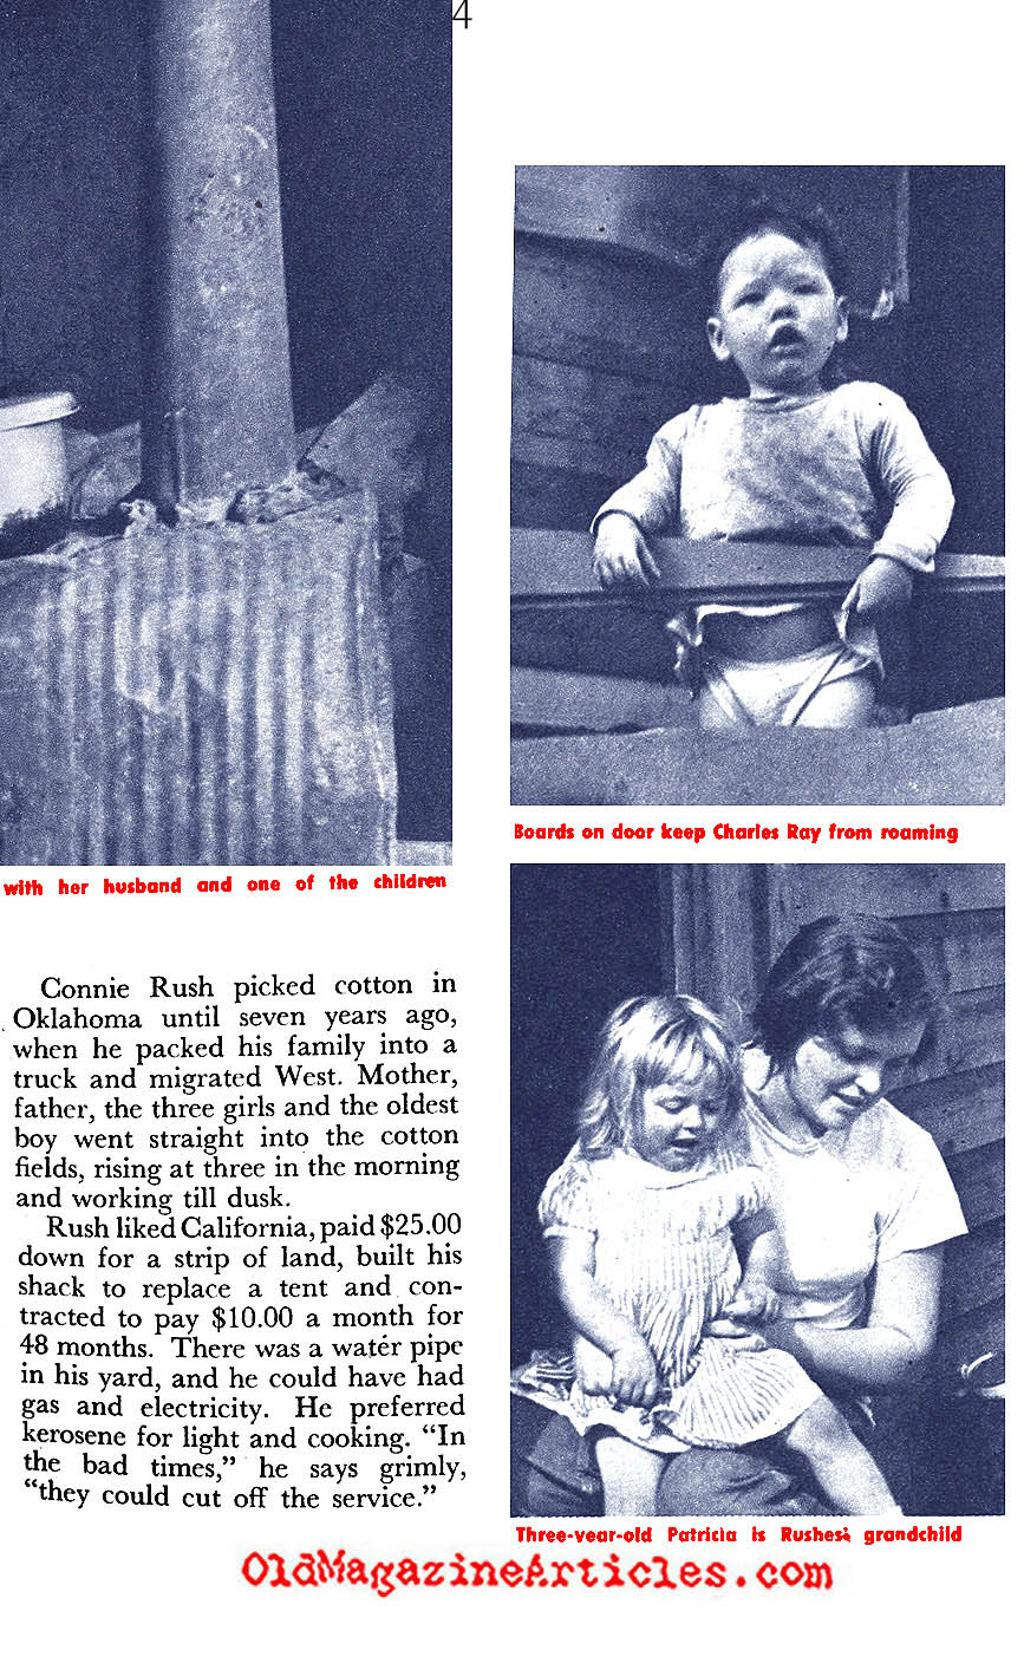face: (722, 231, 829, 384), (809, 1004, 913, 1121), (634, 1050, 719, 1164)
